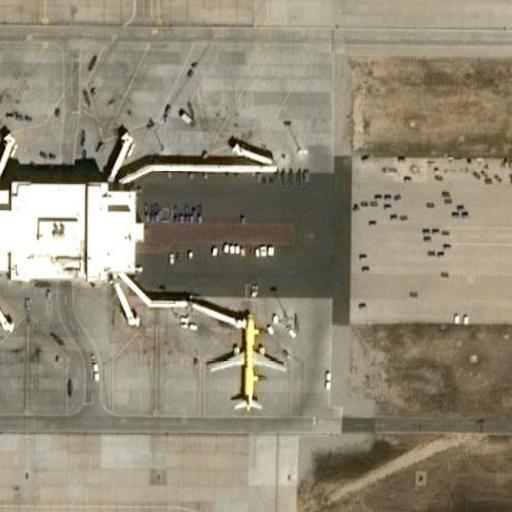Aircraft: (203, 308, 289, 413)
